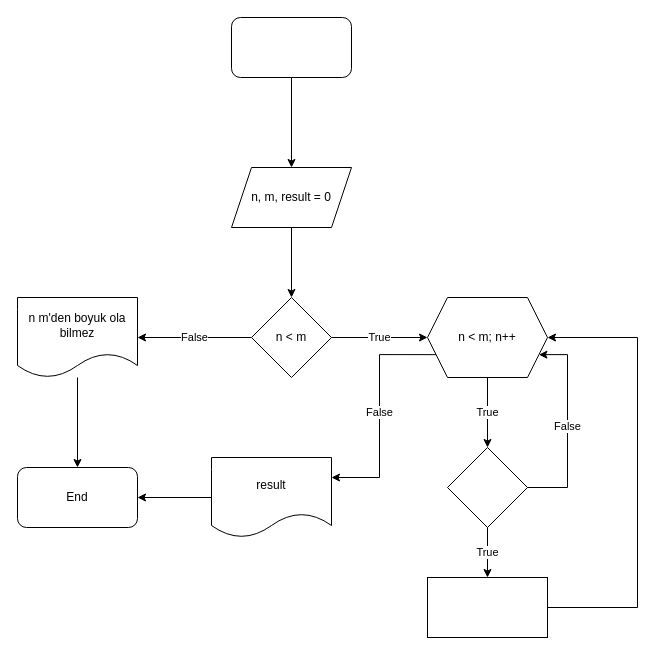
Some shapes in this 663 by 655 pixel diagram are drawn without their labels. The shapes that lost their labels are listed below. From the top down, each one's box as (x1, y1, x2, y2) in pixels, then its label:
(230, 16, 352, 78): Start
(446, 446, 528, 528): n % 2 != 0
(426, 576, 548, 638): result += n
